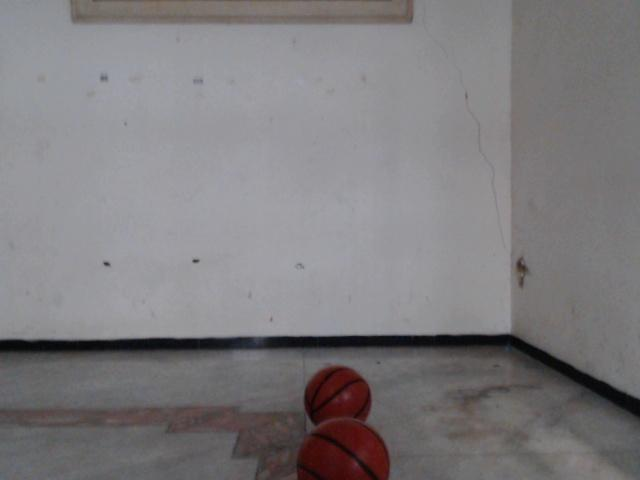Sports-Ball: (293, 427, 396, 480), (301, 364, 375, 427)
